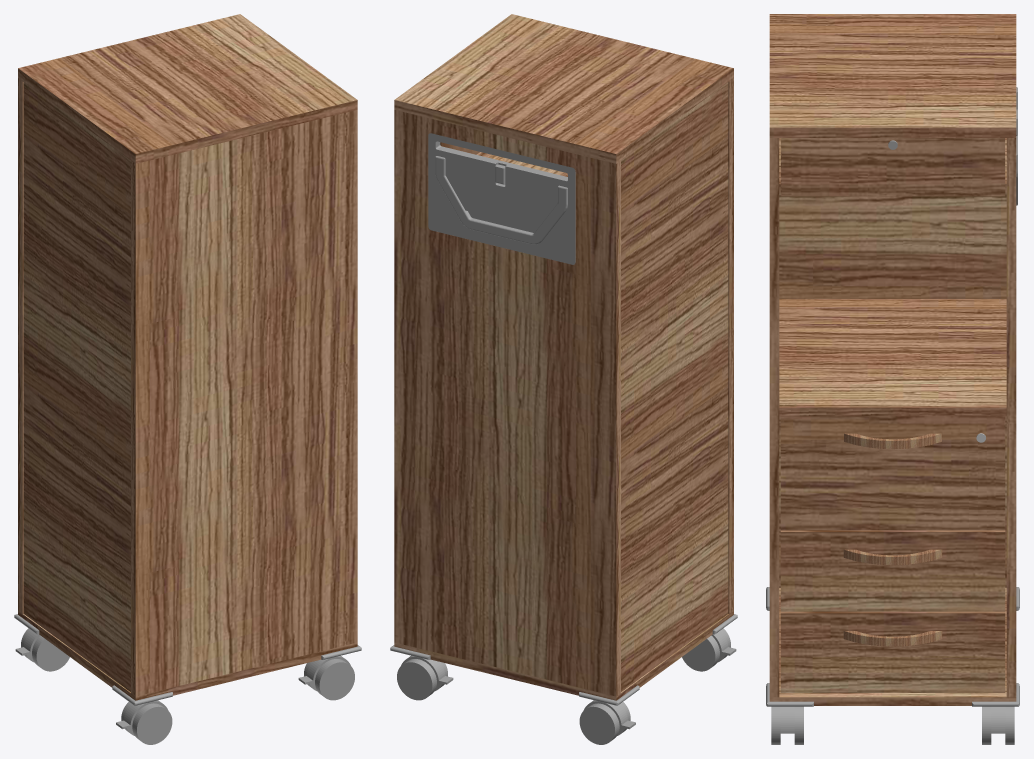
Rendered from personal_cabinet_drawers_41_2_open_finala.fbx.
3 renders of one model, left to right at view 1: azimuth 30°, elevation 25°; view 2: azimuth 150°, elevation 25°; view 3: azimuth 270°, elevation 25°, orthographic. The views are drawn at different scales.
Parts seen in each view (by area): view 1: drewno_mesh, plastic_mesh; view 2: drewno_mesh, plastic_mesh; view 3: drewno_mesh (×4), drewno_mesh1, plastic_mesh, metal2_mesh, metal_mesh, metal3_mesh.
Part boxes in pixels (x1,y1,x2,y2): drewno_mesh: (18, 14, 357, 700); plastic_mesh: (14, 614, 361, 744); drewno_mesh: (394, 14, 733, 700); plastic_mesh: (390, 133, 737, 744); drewno_mesh (×4): (769, 14, 1016, 705); drewno_mesh1: (780, 138, 1005, 196); plastic_mesh: (766, 87, 1019, 744); metal2_mesh: (843, 631, 942, 646); metal_mesh: (843, 549, 942, 565); metal3_mesh: (844, 433, 941, 449).
Bounding box in the file's own units: 49.2 × 115 × 42.4.
